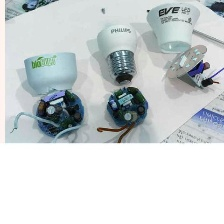light_bulb: (91, 18, 142, 86), (17, 47, 82, 98), (143, 2, 203, 56)
